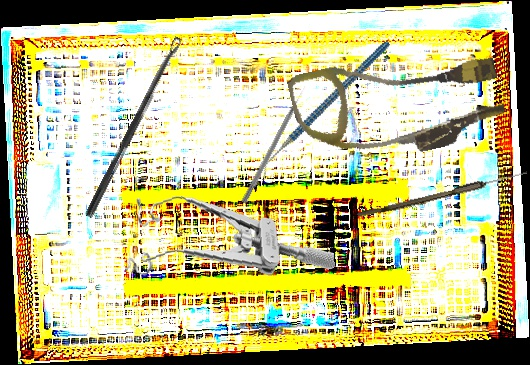Cannula: (286, 31, 510, 178)
Chopper: (232, 40, 419, 181)
Pusher: (240, 84, 310, 205)
Speculum: (117, 178, 336, 291)
Surgical Spoon: (84, 36, 184, 219), (356, 167, 529, 222)
